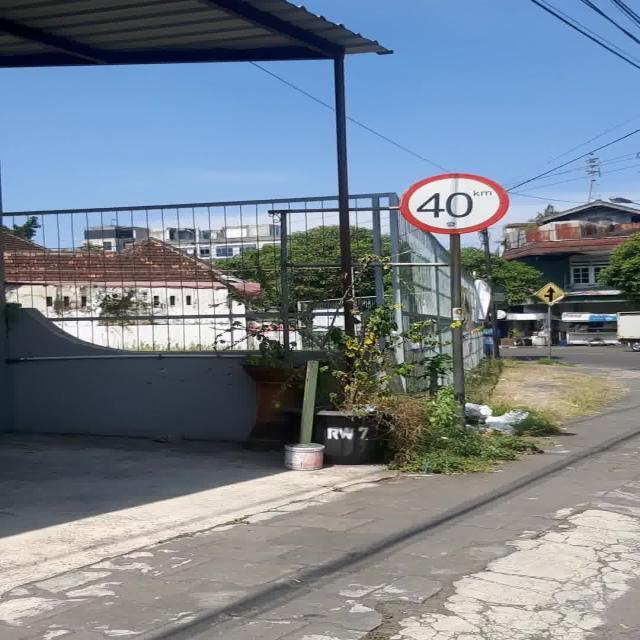Kecepatan Maks. 40 km: (399, 173, 509, 234)
